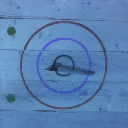Axe Tip: (47, 67, 58, 69)
